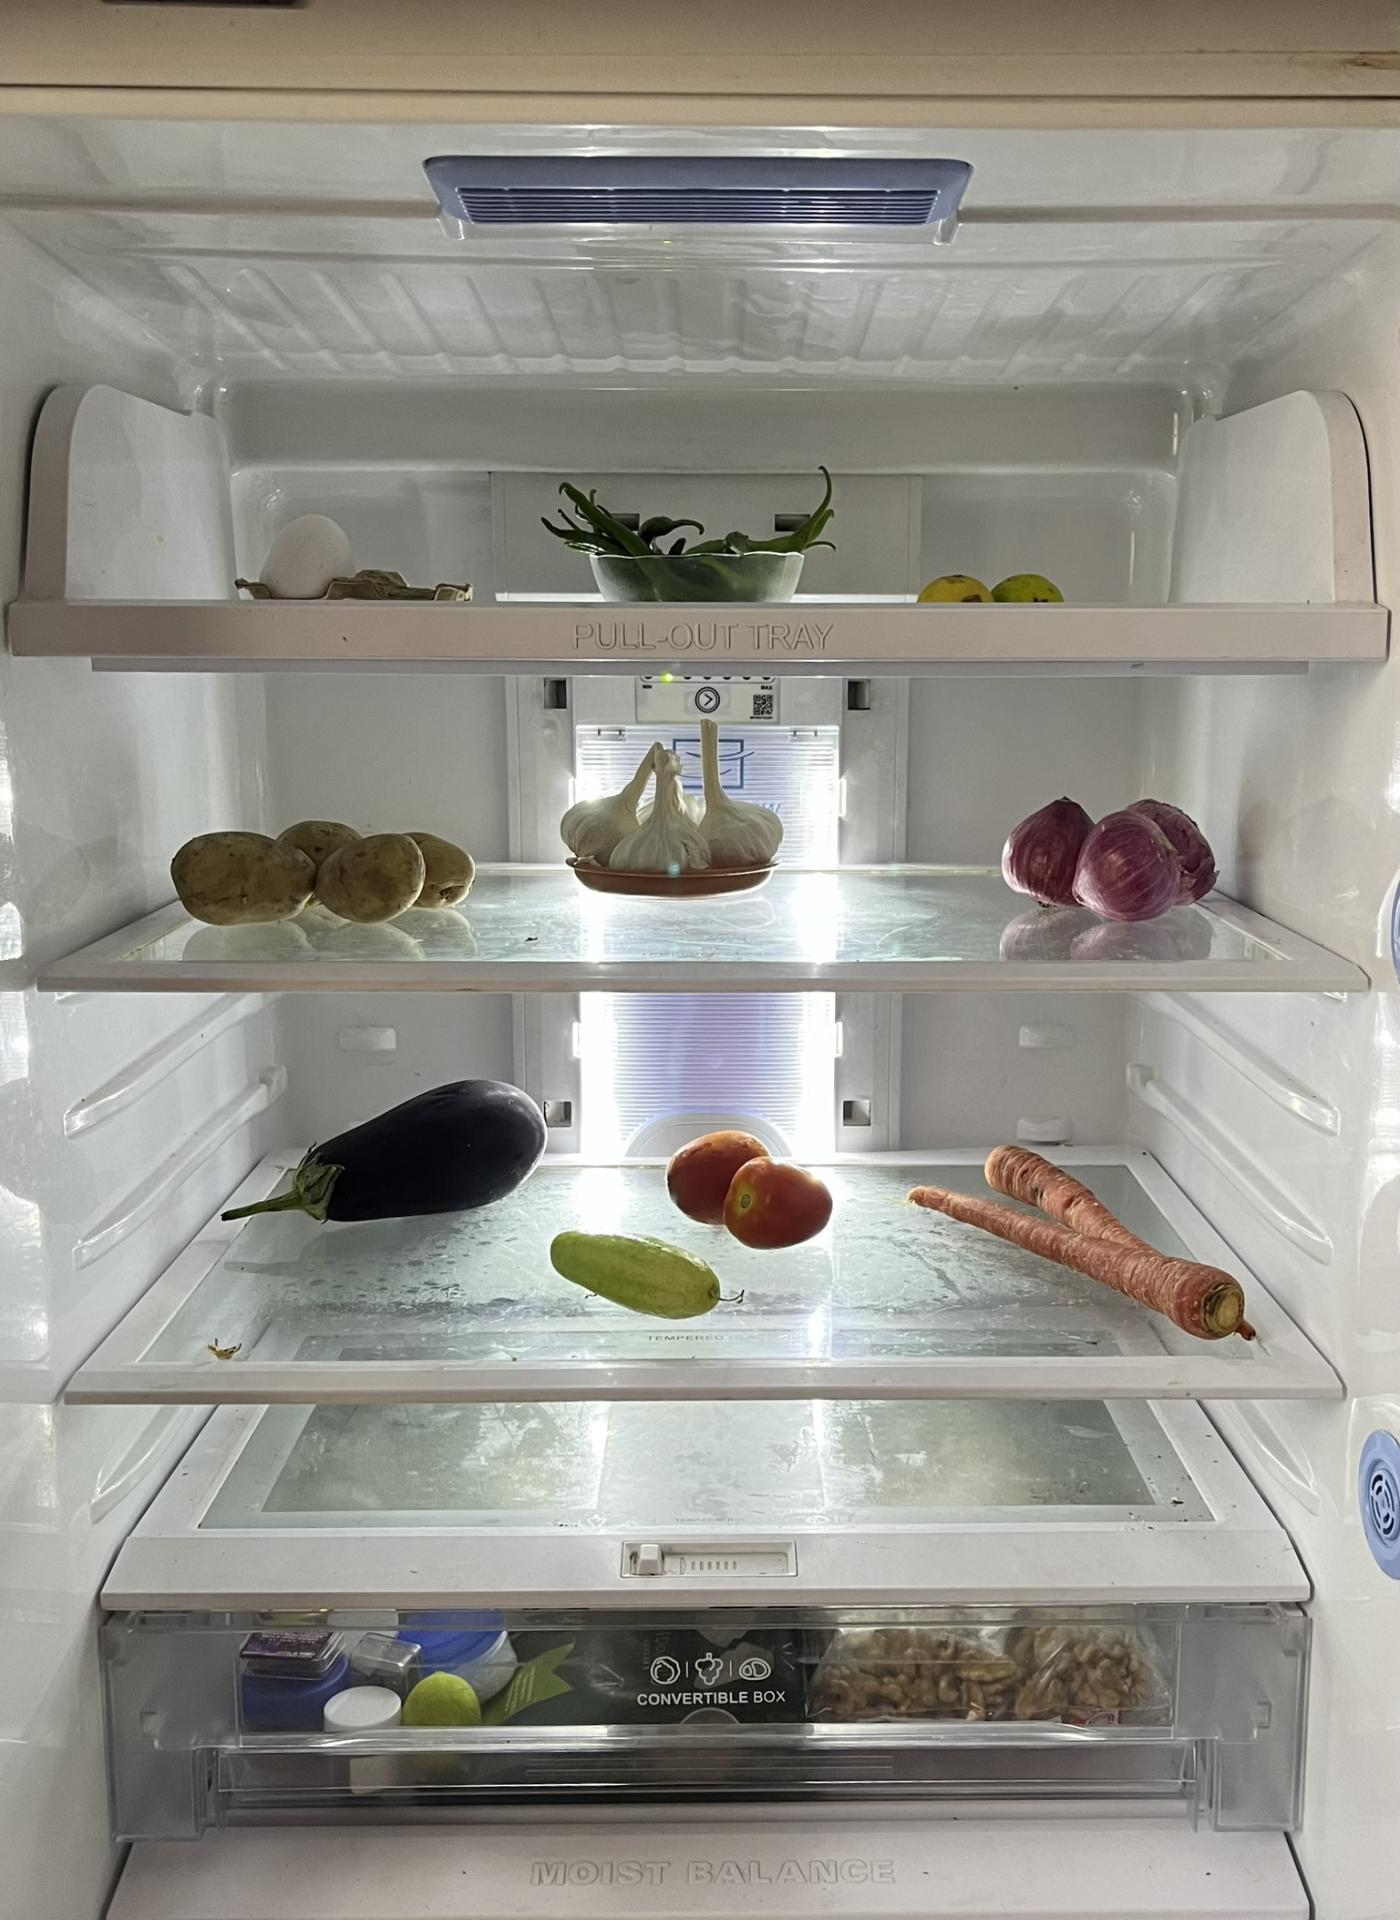brinjal: (230, 1082, 559, 1228)
carrots: (908, 1148, 1261, 1349)
chillies: (564, 477, 841, 598)
cucumber: (543, 1228, 729, 1328)
egg: (252, 508, 362, 598)
garlic: (562, 716, 796, 872)
lemon: (911, 572, 1063, 599)
onion: (1003, 790, 1220, 929)
potato: (170, 818, 480, 926)
tomato: (668, 1128, 829, 1243)
